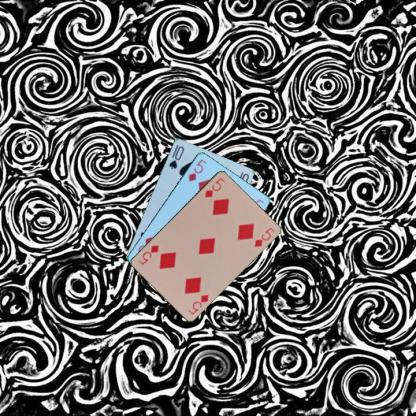10s: (166, 141, 186, 170)
5d: (201, 175, 226, 199), (186, 156, 208, 182), (186, 292, 210, 315)
